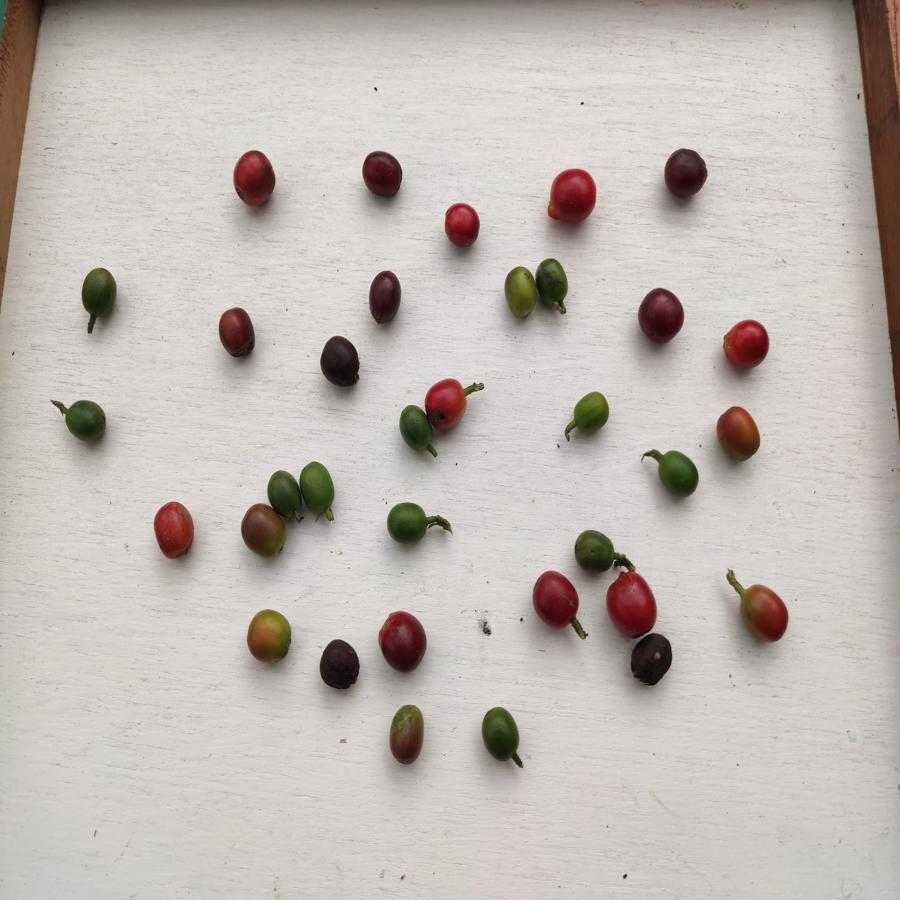Inmaduro: (385, 498, 451, 545), (651, 441, 699, 503), (53, 394, 109, 443), (479, 703, 521, 761), (299, 458, 337, 522), (569, 388, 610, 446), (499, 264, 539, 323), (573, 528, 623, 574), (78, 269, 121, 321), (537, 257, 575, 313), (269, 465, 305, 521), (399, 405, 434, 459)
Maduro: (736, 579, 795, 652), (527, 569, 585, 630), (605, 570, 658, 634), (542, 167, 600, 224), (721, 313, 771, 371), (149, 499, 196, 560), (233, 149, 275, 209), (427, 373, 469, 433), (437, 202, 487, 251)
Pinton: (245, 608, 296, 663), (239, 502, 284, 558), (388, 699, 426, 763)
Sobremaduro: (377, 605, 429, 674), (637, 285, 687, 345), (359, 147, 408, 205), (320, 334, 364, 397), (664, 147, 712, 201), (631, 633, 675, 691), (319, 637, 361, 697), (369, 267, 405, 327), (217, 306, 256, 358)
